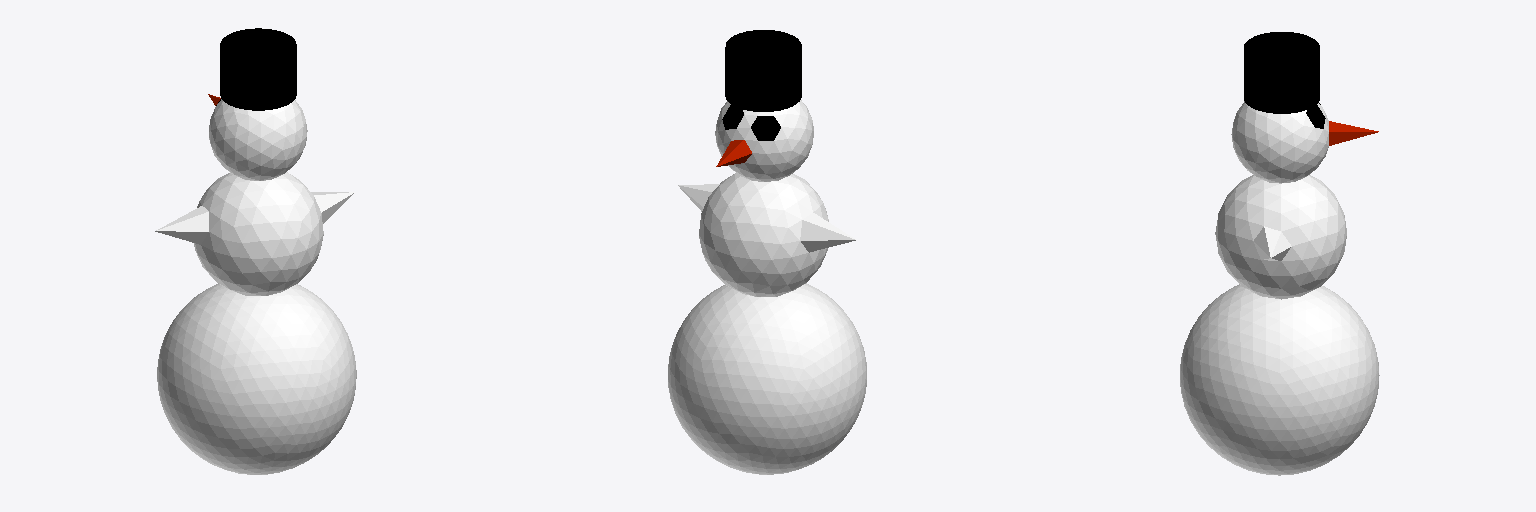
The model's file is snowman.obj.
3 renders of one model, left to right at view 1: azimuth 30°, elevation 25°; view 2: azimuth 150°, elevation 25°; view 3: azimuth 270°, elevation 25°, orthographic.
Visible parts, largest first — view 1: Sphere; view 2: Sphere; view 3: Sphere.
Part boxes in pixels (x1,y1,x2,y2): Sphere: (155,28,356,474); Sphere: (668,30,866,474); Sphere: (1180,32,1379,475).
Bounding box in the file's own units: 2.2 × 4.63 × 2.01.